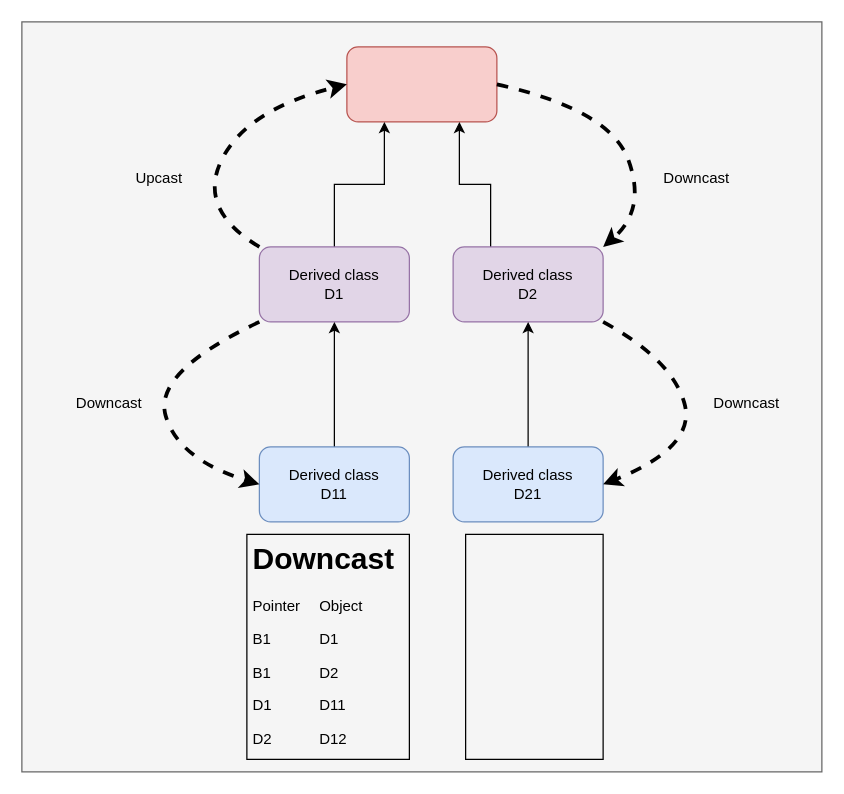
This 844x794 diagram has some shape labels left out. The shapes that lost their labels are listed below. From the top down, each one's centre as x and y in pixels, then its label:
At pixel 421 84: "Base class B1".
At pixel 533 646: "Upcast Pointer Object D1 B1 D2 B1 D11 D1 D12 D2".
